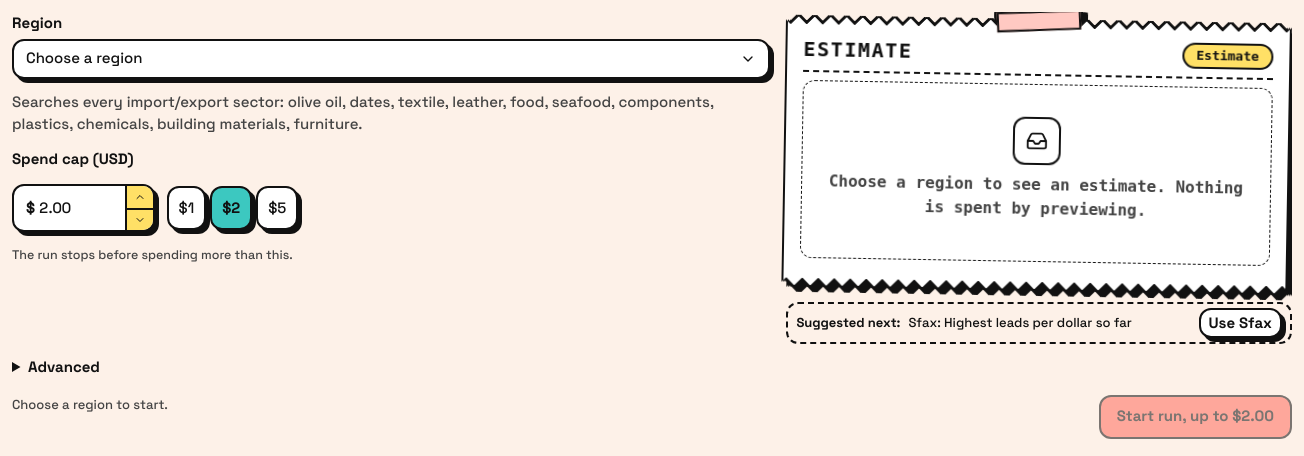
Start a run: region › shows each region with its leads and how far it is covered, and disables one with no map area
Click the dropdown labelled "region".
click(84, 58)  # box top-left (12, 38), bottom-right (770, 78)
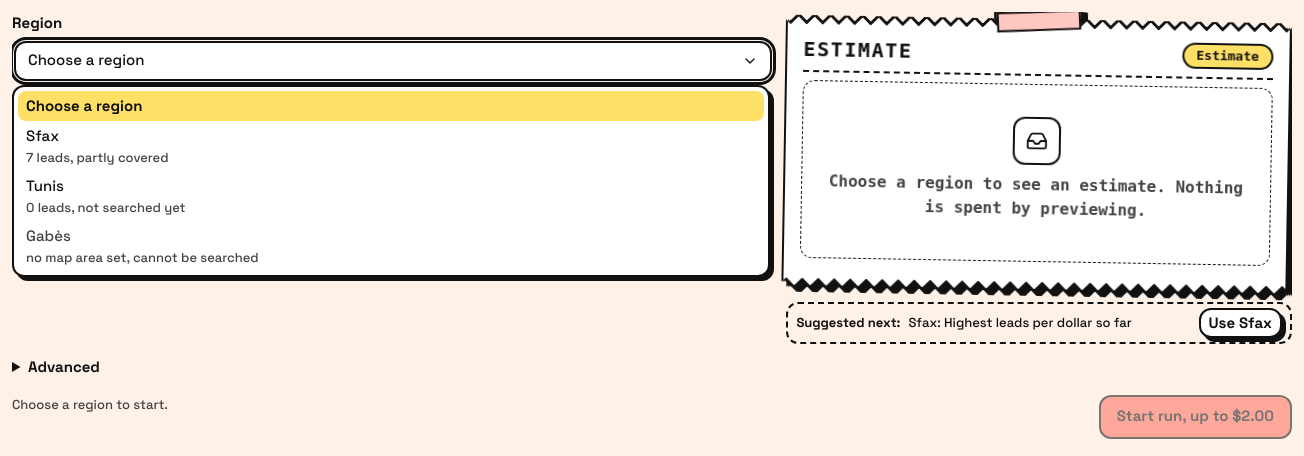
Now the option with aria-label "Sfax, 7 leads, partly covered" is enabled, box top-left (26, 126), bottom-right (168, 166)
Now the option with aria-label "Tunis, 0 leads, not searched yet" is enabled, box top-left (26, 176), bottom-right (186, 216)
